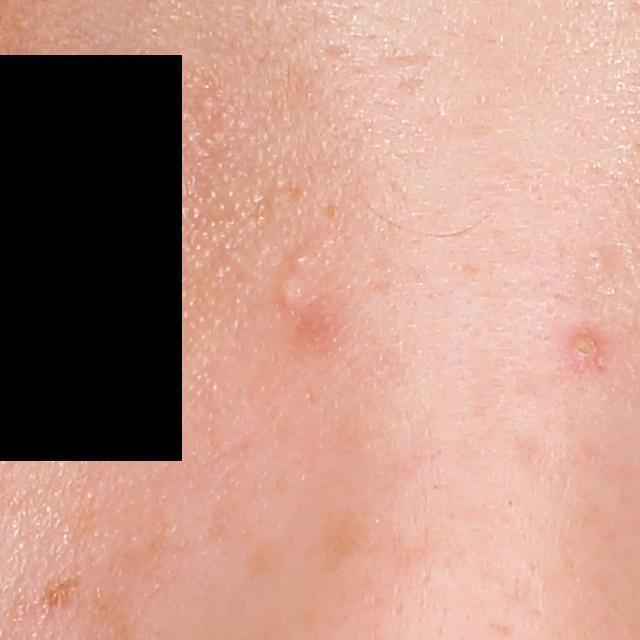comedo: (275, 278, 312, 312), (287, 248, 317, 276)
melasma: (317, 503, 384, 574), (37, 564, 94, 616)
pustule: (568, 325, 611, 368)
